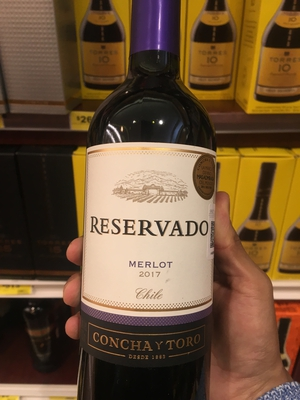reservado merlot: (80, 2, 232, 400)
